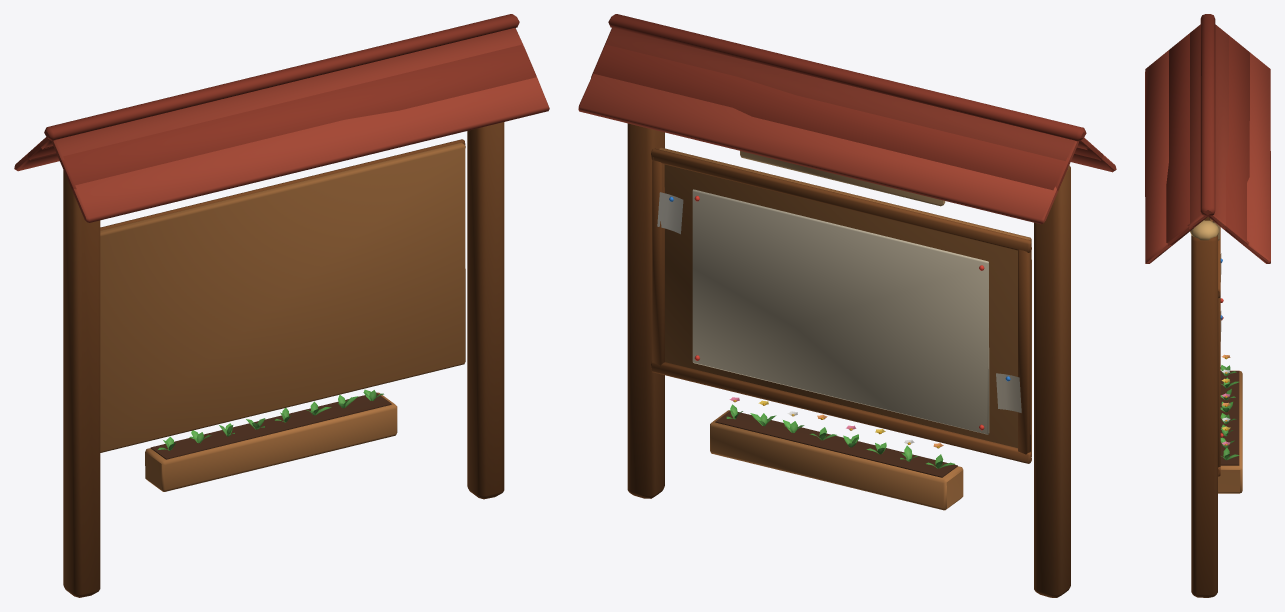
3 views of the same model, side by side, from view 1: azimuth 30°, elevation 25°; view 2: azimuth 150°, elevation 25°; view 3: azimuth 270°, elevation 25° (orthographic). The views are drawn at different scales.
Parts seen in each view (by area): view 1: notice_board; view 2: notice_board; view 3: notice_board.
Boxes of the visible parts, x1=… form: notice_board: x1=14, y1=14, x2=549, y2=597; notice_board: x1=578, y1=14, x2=1116, y2=597; notice_board: x1=1145, y1=14, x2=1270, y2=597.
Size of the model in its own units: 2.79 by 2.67 by 0.7619.
